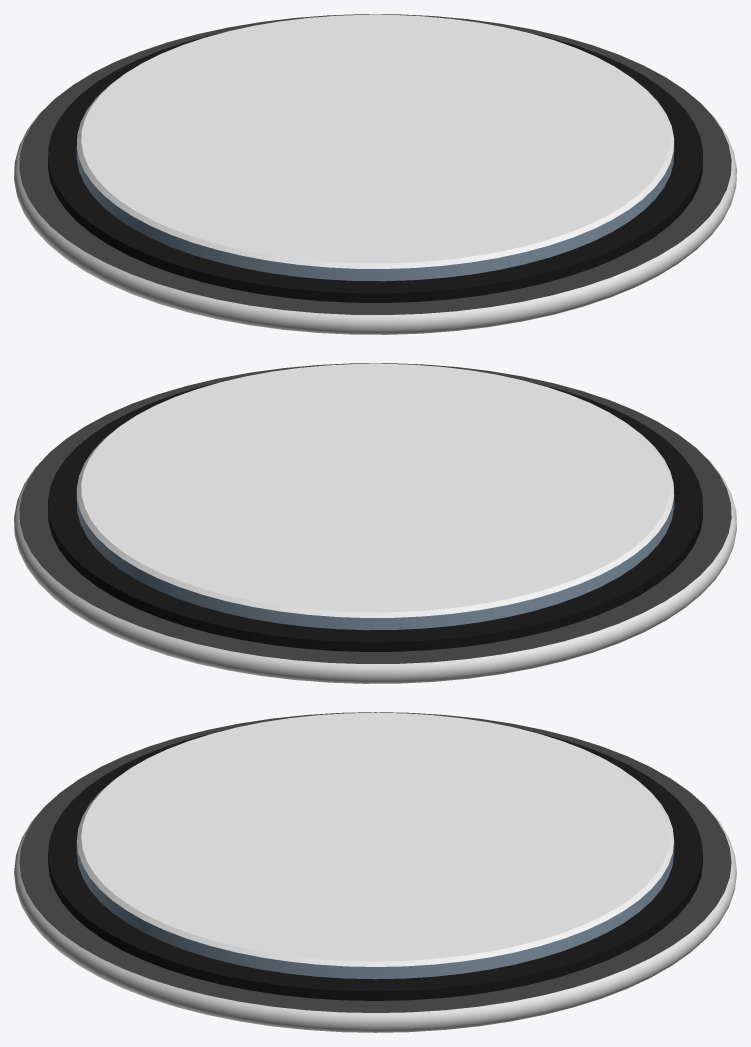
Rendered from Stage.fbx.
The picture shows the model from 3 angles, top to bottom: view 1: azimuth 30°, elevation 25°; view 2: azimuth 150°, elevation 25°; view 3: azimuth 270°, elevation 25°; orthographic projection.
Visible parts, largest first — view 1: Stage; view 2: Stage; view 3: Stage.
Part boxes in pixels (x1,y1,x2,y2): Stage: [14, 14, 736, 334]; Stage: [14, 363, 736, 683]; Stage: [14, 712, 736, 1032].
Size of the model in its own units: 5.02 by 0.3471 by 5.02.
